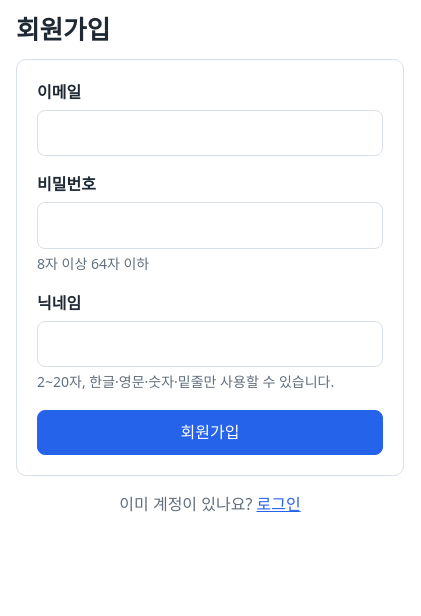
Scenario: 회원가입 › 실패하면 이유를 알려주고 이메일과 닉네임은 남기고 비밀번호만 지운다
Type "a@example.com" into the field labelled "이메일".
click(210, 133); type("a@example.com")  # box left=37, top=110, right=383, bottom=156
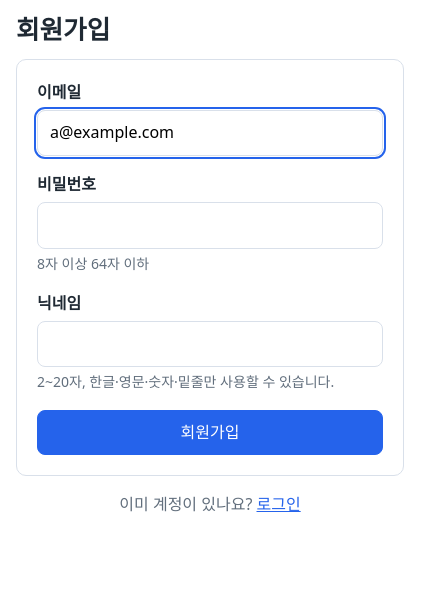
Type "password123" into the password field labelled "비밀번호".
click(210, 225); type("password123")  # box left=37, top=202, right=383, bottom=249
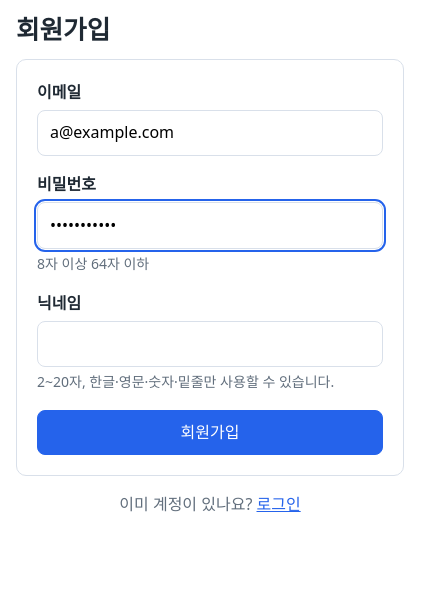
Type "alpha" into the field labelled "닉네임".
click(210, 344); type("alpha")  # box left=37, top=321, right=383, bottom=368
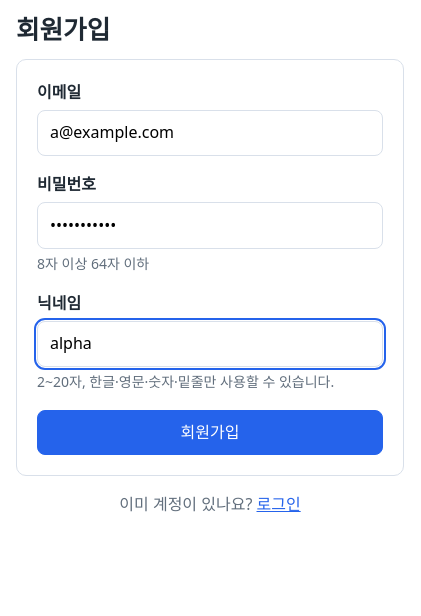
Click the button "회원가입".
click(210, 432)  # box left=37, top=410, right=383, bottom=455
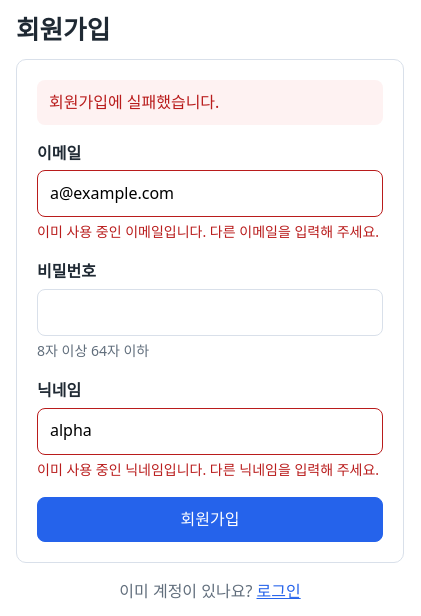
Expected: the text "이미 사용 중인 이메일입니다. 다른 이메일을 입력해 주세요." is shown, left=37, top=221, right=383, bottom=244
Expected: the text "이미 사용 중인 닉네임입니다. 다른 닉네임을 입력해 주세요." is shown, left=37, top=459, right=383, bottom=481
Expected: the password field labelled "비밀번호" is empty, left=37, top=289, right=383, bottom=336
